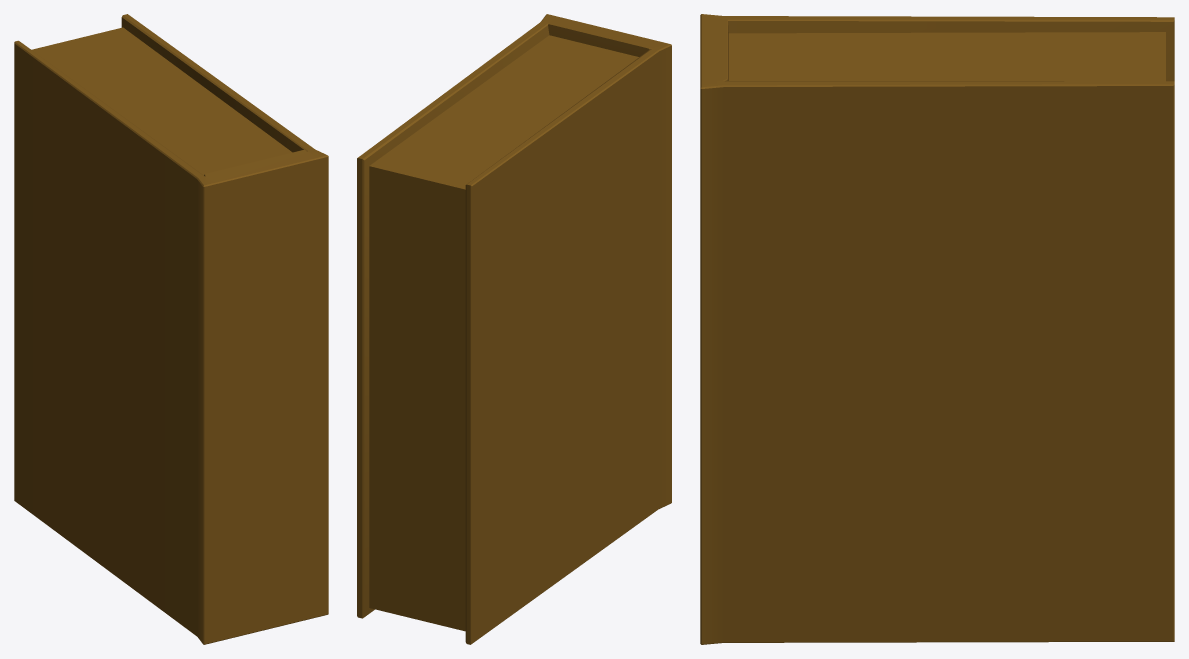
The model's file is book.fbx.
The picture shows the model from 3 angles, left to right: view 1: azimuth 30°, elevation 25°; view 2: azimuth 150°, elevation 25°; view 3: azimuth 270°, elevation 25°; orthographic projection. The views are drawn at different scales.
Visible parts, largest first — view 1: pCube36; view 2: pCube36; view 3: pCube36.
Boxes of the visible parts, x1,y1,x2,y2 form: pCube36: (14,14,328,644); pCube36: (357,14,671,644); pCube36: (700,14,1174,644).
Bounding box in the file's own units: 0.7153 × 2.51 × 1.93.
